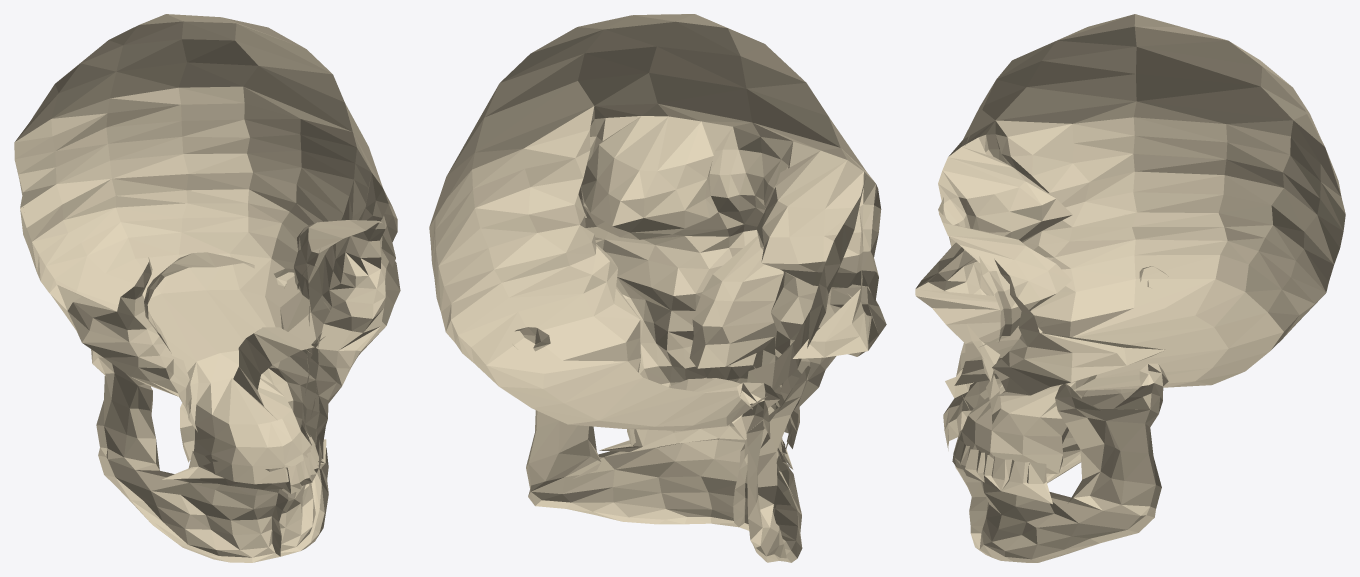
The model's file is skull_from_asc.gltf.
3 renders of one model, left to right at view 1: azimuth 30°, elevation 25°; view 2: azimuth 150°, elevation 25°; view 3: azimuth 270°, elevation 25°, orthographic. The views are drawn at different scales.
Size of the model in its own units: 1.38 by 2 by 1.53.
